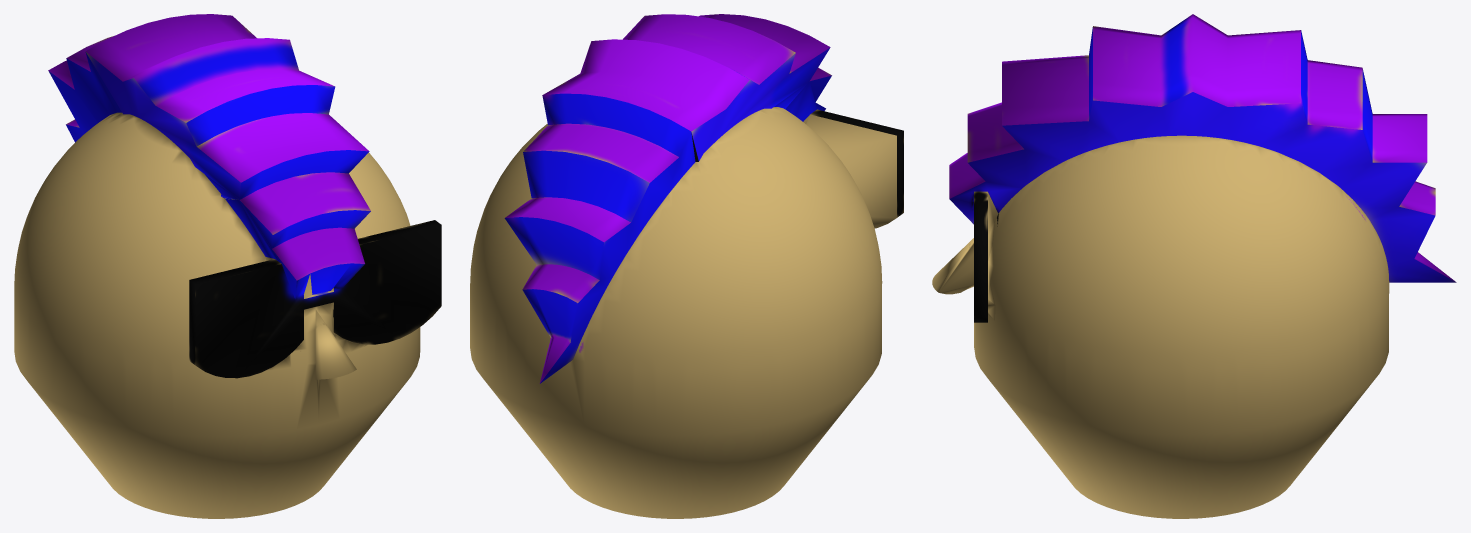
Rendered from HeadSat.dae.
3 views of the same model, side by side, from view 1: azimuth 30°, elevation 25°; view 2: azimuth 150°, elevation 25°; view 3: azimuth 270°, elevation 25° (orthographic). The views are drawn at different scales.
Parts seen in each view (by area): view 1: node_d53dea49_f653_45da_a26e_9c484f17f370_mesh0; view 2: node_d53dea49_f653_45da_a26e_9c484f17f370_mesh0; view 3: node_d53dea49_f653_45da_a26e_9c484f17f370_mesh0.
Boxes of the visible parts, bbox=[...] form: node_d53dea49_f653_45da_a26e_9c484f17f370_mesh0: bbox=[14, 14, 441, 518]; node_d53dea49_f653_45da_a26e_9c484f17f370_mesh0: bbox=[470, 14, 903, 518]; node_d53dea49_f653_45da_a26e_9c484f17f370_mesh0: bbox=[932, 14, 1456, 518].
Size of the model in its own units: 0.2999 by 0.3791 by 0.3445.
1 material, 1 textured.
